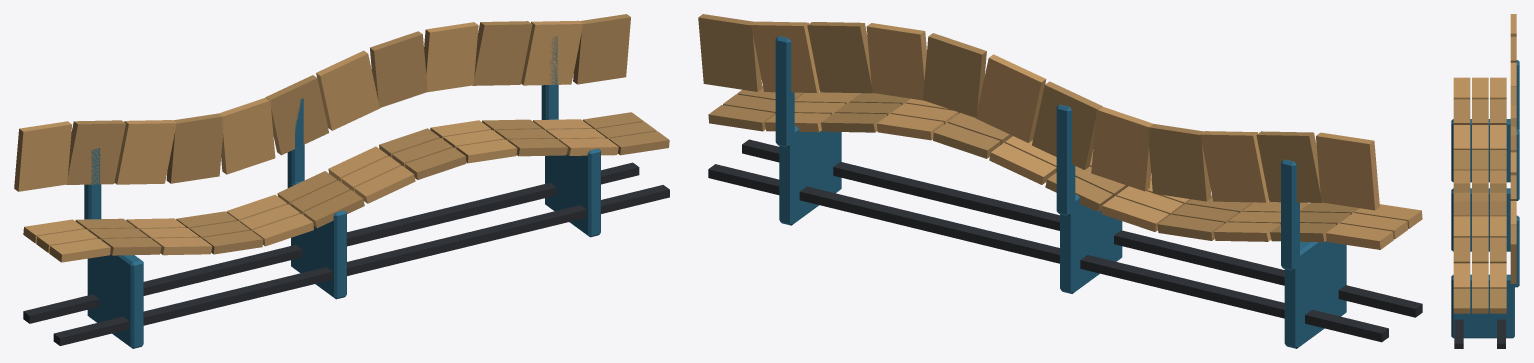
File: wave_bench.glb
The picture shows the model from 3 angles, left to right: view 1: azimuth 30°, elevation 25°; view 2: azimuth 150°, elevation 25°; view 3: azimuth 270°, elevation 25°; orthographic projection. The views are drawn at different scales.
Visible parts, largest first — view 1: wave_bench; view 2: wave_bench; view 3: wave_bench.
Part boxes in pixels (box(x1,y1,x2,y2)): wave_bench: box(14, 14, 669, 348); wave_bench: box(698, 14, 1422, 348); wave_bench: box(1451, 14, 1519, 348).
Bounding box in the file's own units: 3.26 × 1.03 × 0.45.
